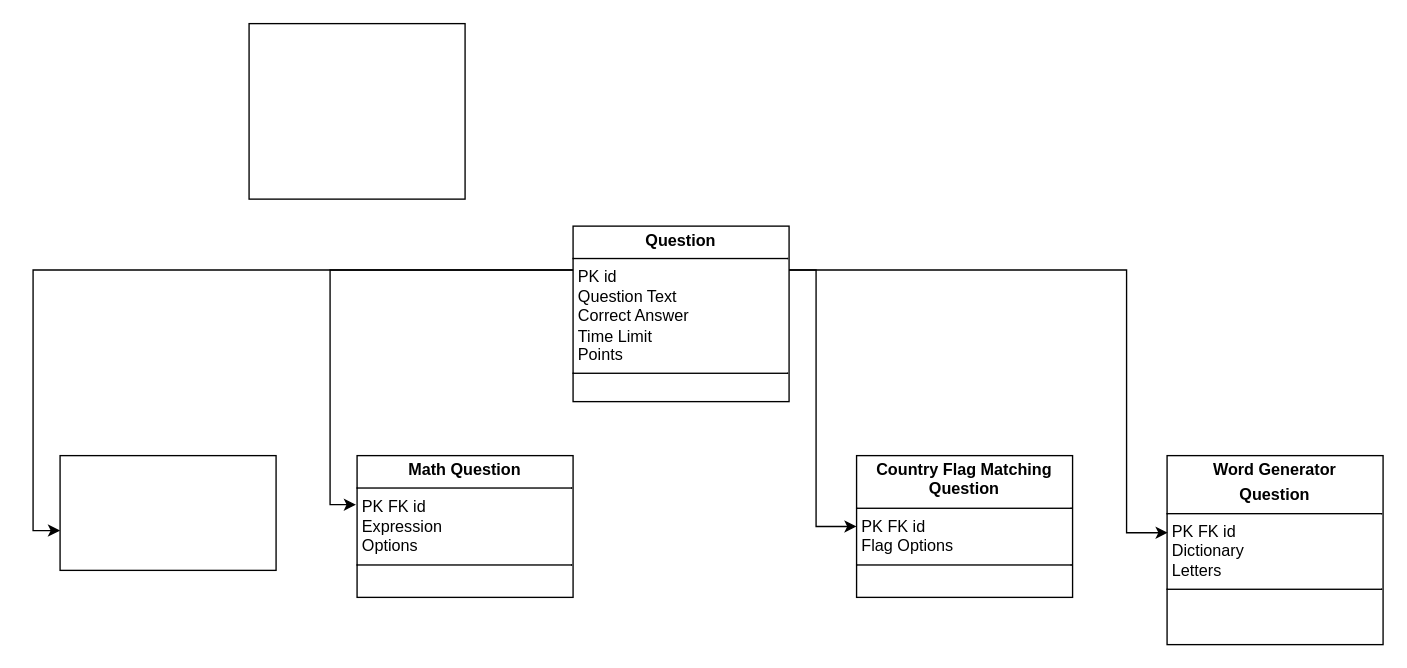
Image size: 1407x668. Some labels were removed from this diagram. Here are the shapes that lost their labels. From the top down, the centre of each, then its label:
(x=356, y=110): User PK id Email Username Password
(x=167, y=512): Flag Guessing Question PK FK id Flag Path
